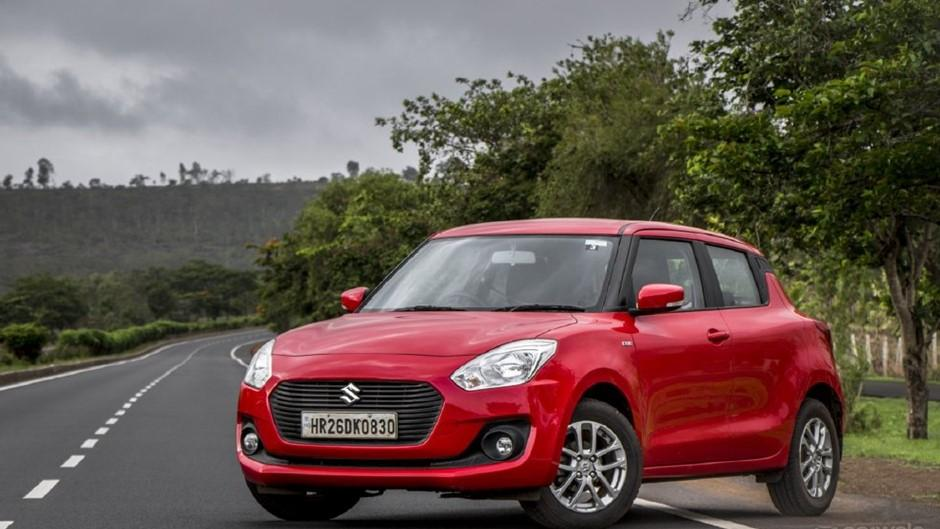car: (149, 188, 874, 527)
